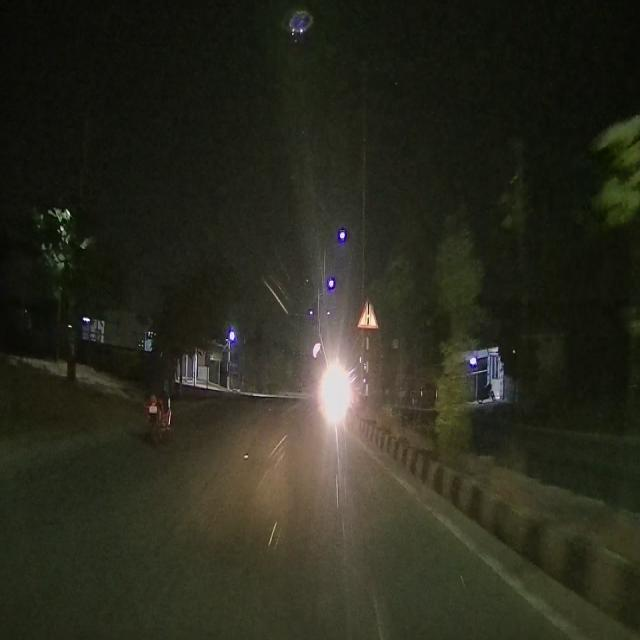gap-in-median: (358, 298, 378, 330)
